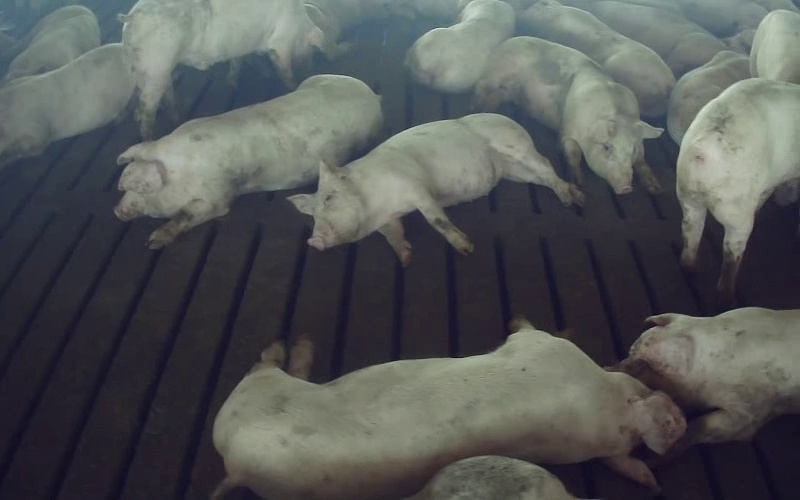pig: (213, 320, 685, 497), (115, 75, 381, 248), (289, 113, 583, 264), (122, 0, 323, 139), (676, 78, 799, 302), (613, 307, 799, 453), (518, 0, 674, 117), (0, 44, 134, 168), (590, 0, 726, 77), (405, 0, 514, 92), (667, 51, 750, 144), (6, 5, 100, 80)
